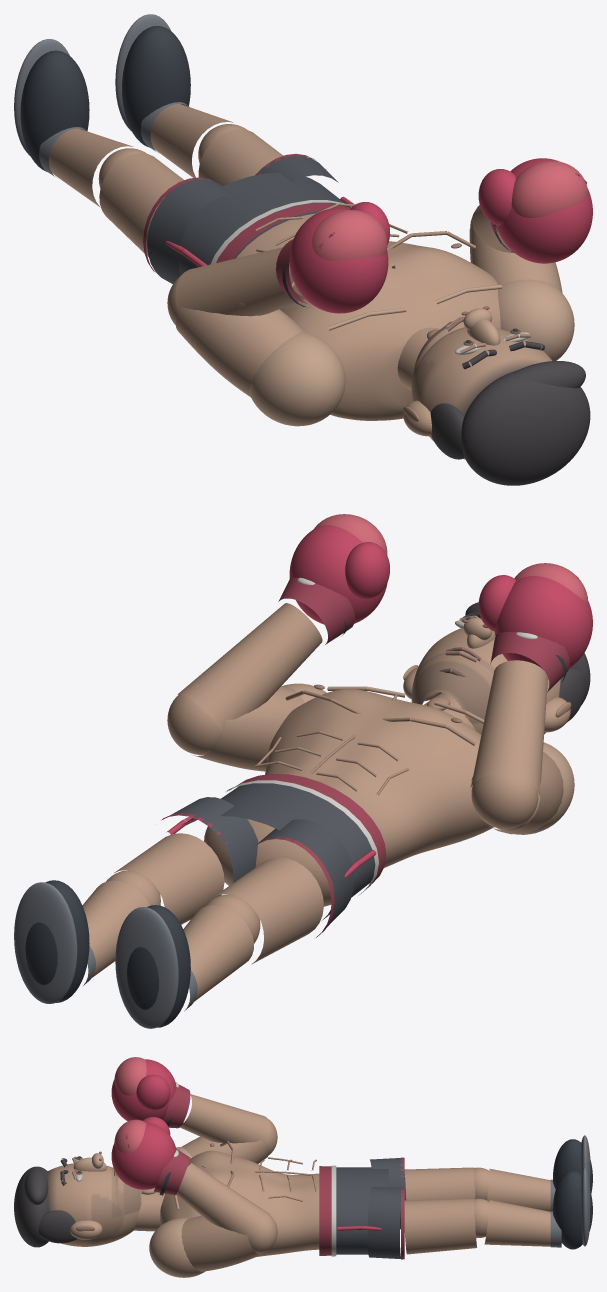
The model's file is boxer.glb.
The picture shows the model from 3 angles, top to bottom: view 1: azimuth 30°, elevation 25°; view 2: azimuth 150°, elevation 25°; view 3: azimuth 270°, elevation 25°; orthographic projection. The views are drawn at different scales.
Parts seen in each view (by area): view 1: Anatomical_athletic_torso, Sculpted_side_swept_hair, Deltoid_-1, Face_sculpt_with_stubble, Shorts_Waist, Bicep_upper_-1, Forearm_-1, Red_boxing_glove_-1, Black_boxing_shoe_1, Black_boxing_shoe_-1, Upper_thigh_-1, Deltoid_1 (+21 smaller); view 2: Anatomical_athletic_torso, Forearm_1, Forearm_-1, Upper_thigh_-1, Red_boxing_glove_-1, Shorts_Waist, Upper_thigh_1, Face_sculpt_with_stubble, Shoe_sole_1, Shoe_sole_-1, Calf_-1, Red_boxing_glove_1 (+22 smaller); view 3: Anatomical_athletic_torso, Face_sculpt_with_stubble, Upper_thigh_1, Forearm_1, Shorts_Waist, Forearm_-1, Bicep_upper_1, Red_boxing_glove_1, Calf_1, Short_leg_1, Upper_thigh_-1, Calf_-1 (+25 smaller).
Boxes of the visible parts, x1,y1,x2,y2 form: Anatomical_athletic_torso: (236,213,500,420); Sculpted_side_swept_hair: (461,370,590,485); Deltoid_-1: (249,332,345,426); Face_sculpt_with_stubble: (411,321,552,459); Shorts_Waist: (178,173,350,275); Bicep_upper_-1: (176,307,304,396); Forearm_-1: (175,247,304,316); Red_boxing_glove_-1: (289,208,388,313); Black_boxing_shoe_1: (122,26,190,147); Black_boxing_shoe_-1: (20,50,89,171); Upper_thigh_-1: (99,153,184,257); Deltoid_1: (498,279,574,360); Anatomical_athletic_torso: (265,689,493,867); Forearm_1: (177,603,322,733); Forearm_-1: (470,660,547,795); Upper_thigh_-1: (212,857,323,964); Red_boxing_glove_-1: (494,576,592,669); Shorts_Waist: (181,783,375,920); Upper_thigh_1: (114,833,224,924); Face_sculpt_with_stubble: (411,628,560,734); Shoe_sole_1: (14,882,77,1003); Shoe_sole_-1: (115,907,178,1028); Calf_-1: (183,905,253,1001); Red_boxing_glove_1: (289,525,387,624); Anatomical_athletic_torso: (160,1150,319,1256); Face_sculpt_with_stubble: (47,1163,141,1246); Upper_thigh_1: (404,1198,477,1254); Forearm_1: (176,1163,269,1239); Shorts_Waist: (336,1167,388,1254); Forearm_-1: (180,1094,270,1146); Bicep_upper_1: (181,1215,261,1271); Red_boxing_glove_1: (111,1123,176,1189); Calf_1: (484,1199,550,1246); Short_leg_1: (367,1187,403,1258); Upper_thigh_-1: (404,1167,475,1200); Calf_-1: (487,1168,550,1211).
Size of the model in its own units: 1.93 by 1.27 by 4.18.
